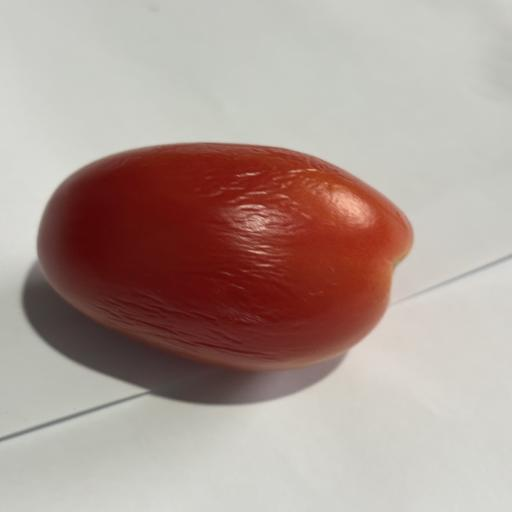spoiled: (38, 143, 412, 371)
